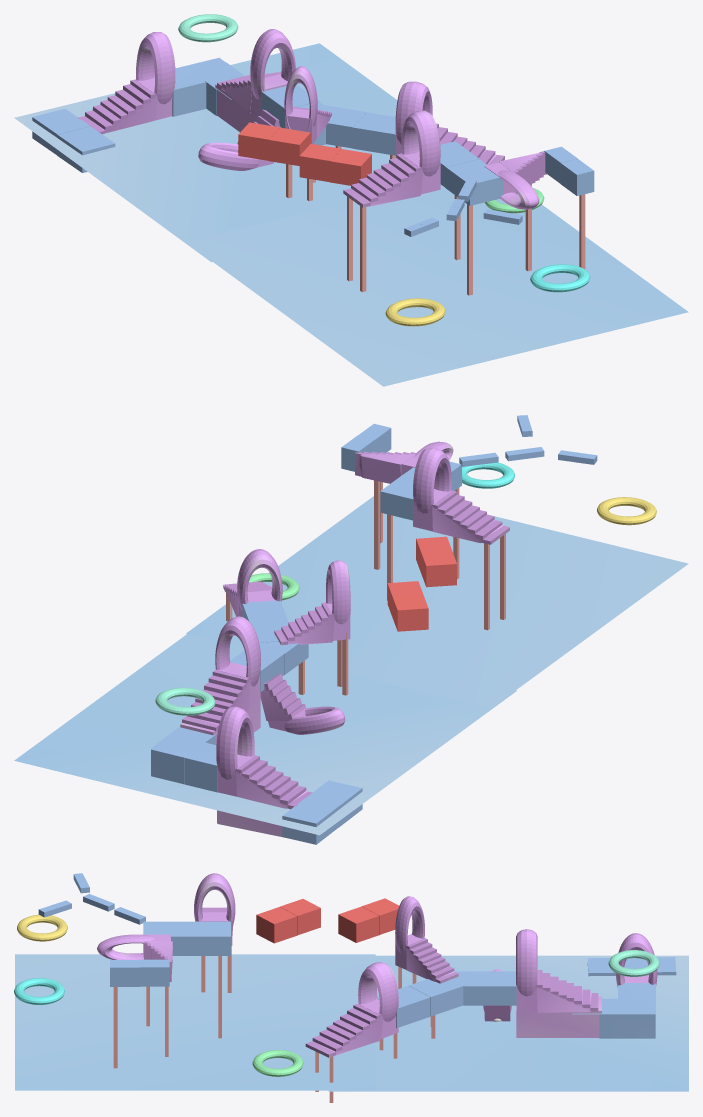
3 renders of one model, top to bottom at view 1: azimuth 30°, elevation 25°; view 2: azimuth 150°, elevation 25°; view 3: azimuth 270°, elevation 25°, orthographic. The views are drawn at different scales.
Visible parts, largest first — view 1: floor, stair1, stair5, stair2, supports, path3, path, path4, block2, block1, start, stair6 (+9 smaller); view 2: floor, stair1, stair5, stair2, supports, path, stair3, stair4, start, stair7, stair6, block1 (+9 smaller); view 3: floor, stair2, stair7, path, stair3, path4, path3, supports, block2, path2, block1, path5 (+10 smaller).
Boxes of the visible parts, x1,y1,x2,y2 form: floor: (14,43,688,386); stair1: (77,32,175,134); stair5: (343,110,440,207); stair2: (215,29,295,132); supports: (286,146,585,295); path3: (317,104,395,155); path: (154,57,244,116); path4: (440,141,503,205); block2: (299,144,371,185); block1: (238,122,310,165); start: (32,108,115,172); stair6: (484,151,546,209); floor: (14,496,688,835); stair1: (216,706,312,836); stair5: (413,447,509,544); stair2: (180,616,261,744); supports: (226,480,505,695); path: (150,726,217,792); stair3: (274,560,350,645); stair4: (260,673,345,734); start: (282,780,362,844); stair7: (223,549,282,616); stair6: (355,441,453,483); block1: (387,581,428,631); floor: (15,954,688,1091); stair2: (516,929,601,1037); stair7: (305,962,398,1057); path: (572,983,655,1038); stair3: (395,896,458,983); path4: (143,921,230,955); path3: (377,979,464,1027); supports: (113,946,435,1102); block2: (256,899,320,943); path2: (453,971,516,1005); block1: (338,898,398,942); path5: (110,959,169,986).
Size of the model in its own units: 79.29 by 48.74 by 166.
